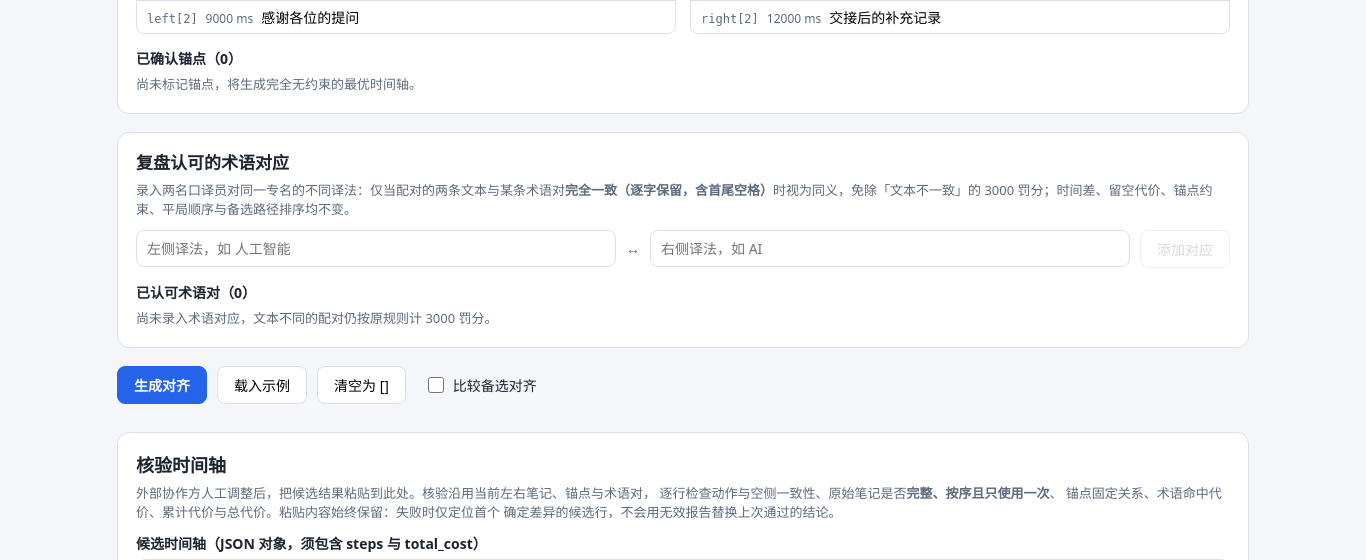
Test: App › sends compare_alternative when checked and shows the equal-cost alt
(page scrolled)
Step 1. Click the checkbox with test id "compare-alternative" → (436, 385), box x1=428 y1=377 x2=444 y2=393
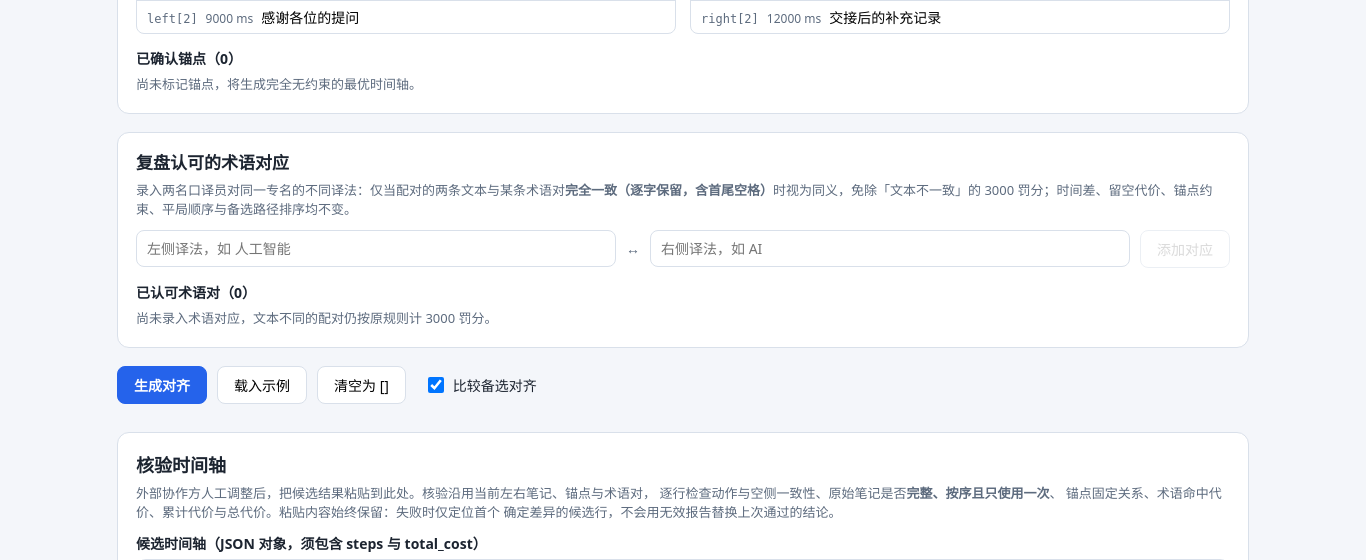
Step 2. Click the button with test id "submit" → (162, 385), box x1=117 y1=366 x2=207 y2=404
(page scrolled)
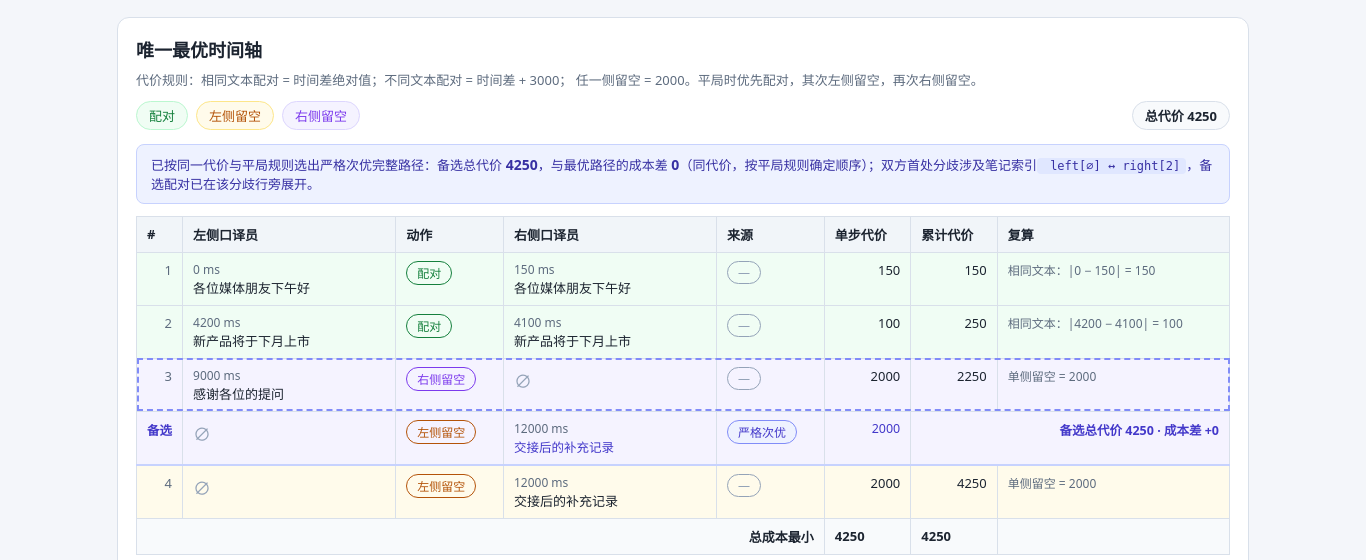
Check: the element with test id "alternative-summary" is shown, box x1=136 y1=144 x2=1230 y2=204
Check: the number of rows with test id "timeline-row" is 4, box x1=136 y1=252 x2=1230 y2=305; x1=136 y1=305 x2=1230 y2=358; x1=136 y1=358 x2=1230 y2=411; x1=136 y1=465 x2=1230 y2=518
Check: the text with test id "alternative-total" reads "4250", box x1=506 y1=155 x2=538 y2=174
